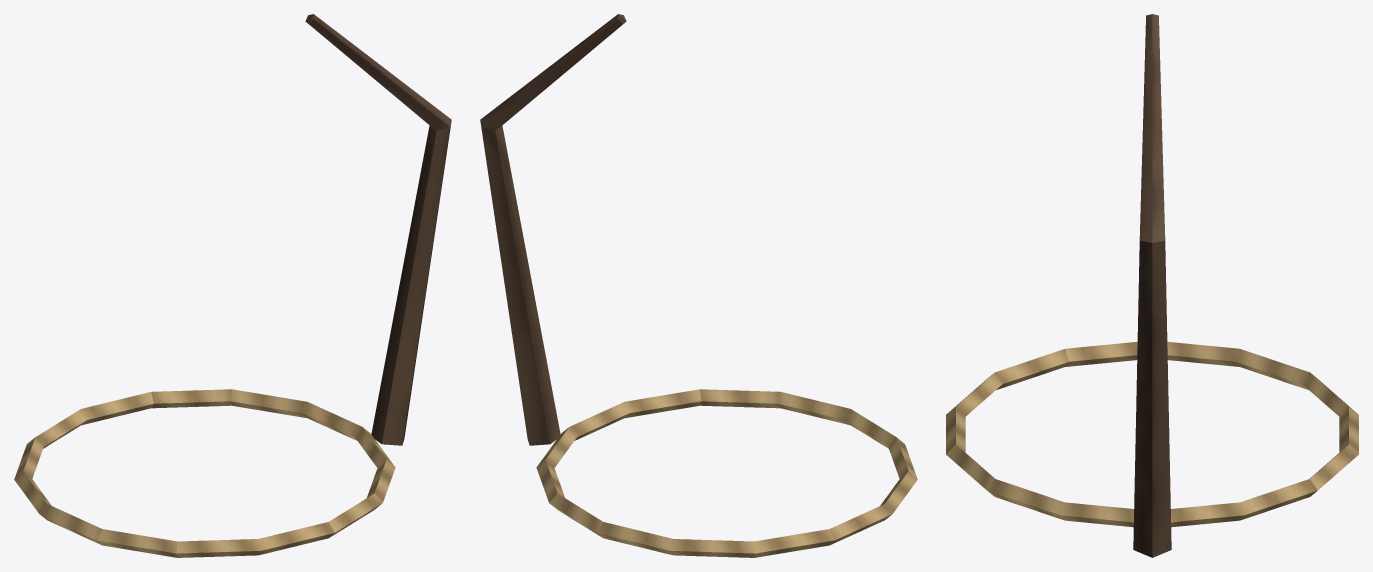
The model's file is SM_Snare.fbx.
The picture shows the model from 3 angles, left to right: view 1: azimuth 30°, elevation 25°; view 2: azimuth 150°, elevation 25°; view 3: azimuth 270°, elevation 25°; orthographic projection. The views are drawn at different scales.
Visible parts, largest first — view 1: SM_Snare; view 2: SM_Snare; view 3: SM_Snare.
Boxes of the visible parts, x1,y1,x2,y2 form: SM_Snare: [14, 14, 451, 557]; SM_Snare: [480, 14, 917, 557]; SM_Snare: [946, 14, 1358, 557].
Bounding box in the file's own units: 3.14 × 3.25 × 2.46.
1 material, 1 textured.
